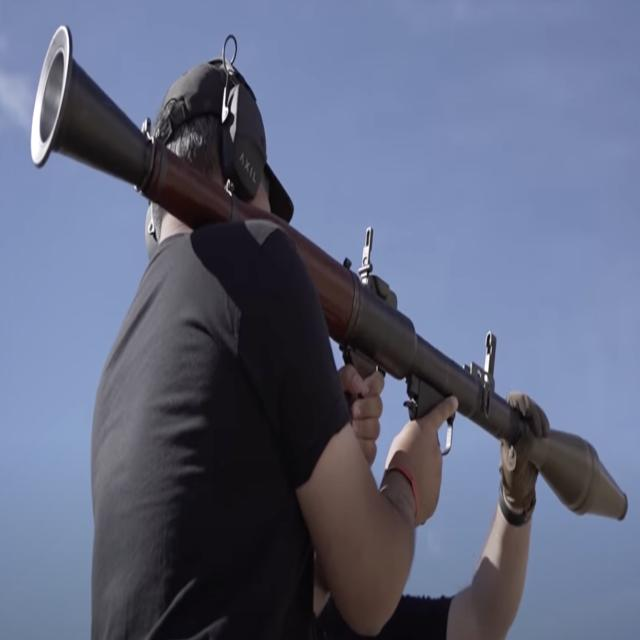bazooka: (13, 17, 639, 550)
